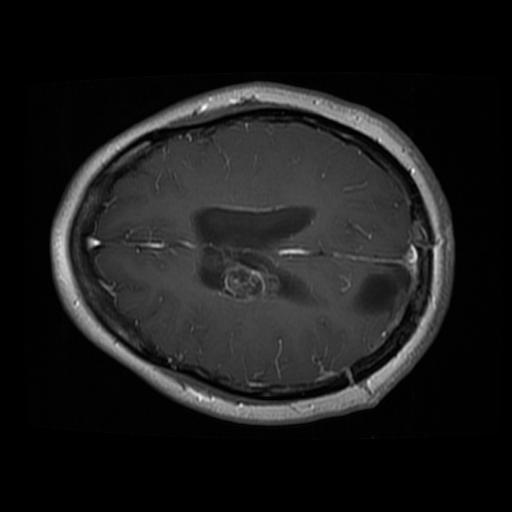glioma: (194, 245, 285, 306)
